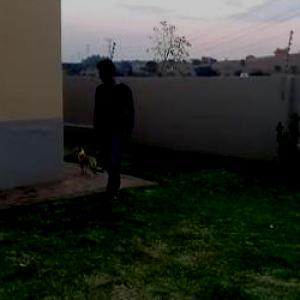follow: (89, 55, 133, 205)
